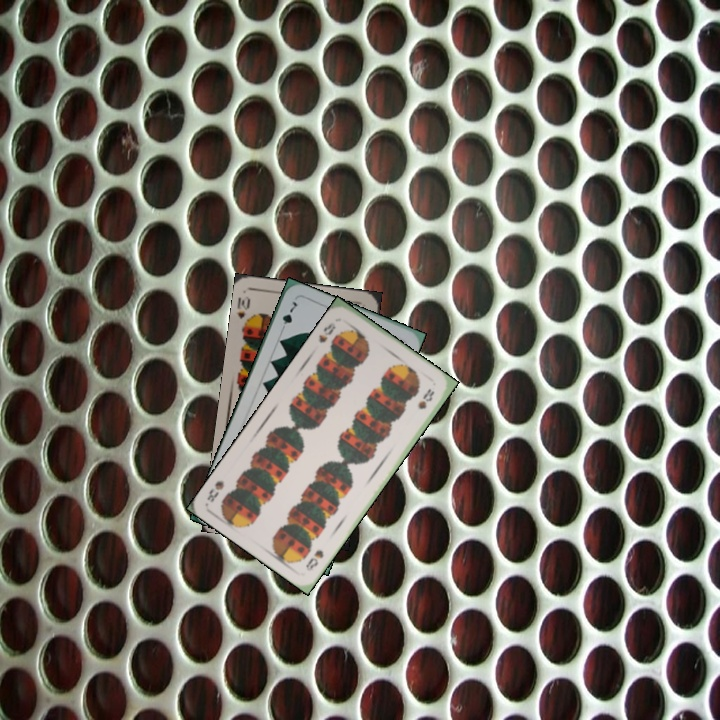G7: (276, 297, 300, 335)
S10: (233, 292, 253, 330)
S8: (301, 546, 326, 574), (315, 319, 338, 346)
